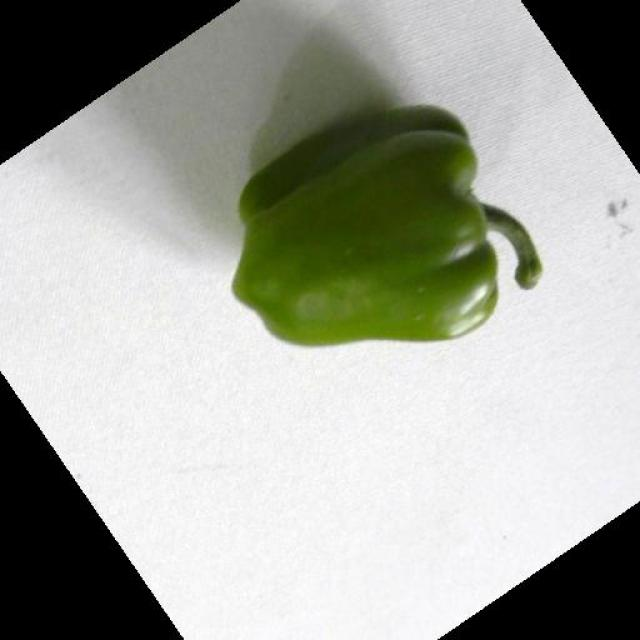Fresh_Capsicum: (220, 146, 546, 342)
